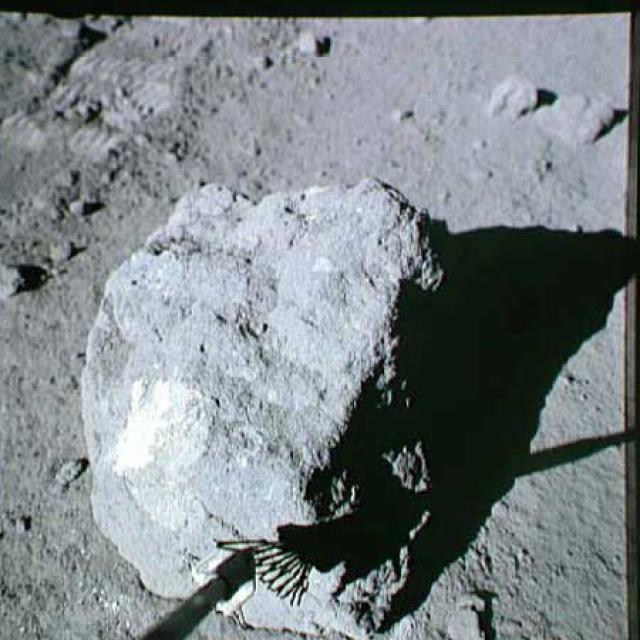artifact: (112, 521, 308, 640)
rock: (78, 164, 454, 638), (532, 87, 622, 148), (478, 71, 540, 123), (0, 258, 30, 304)
